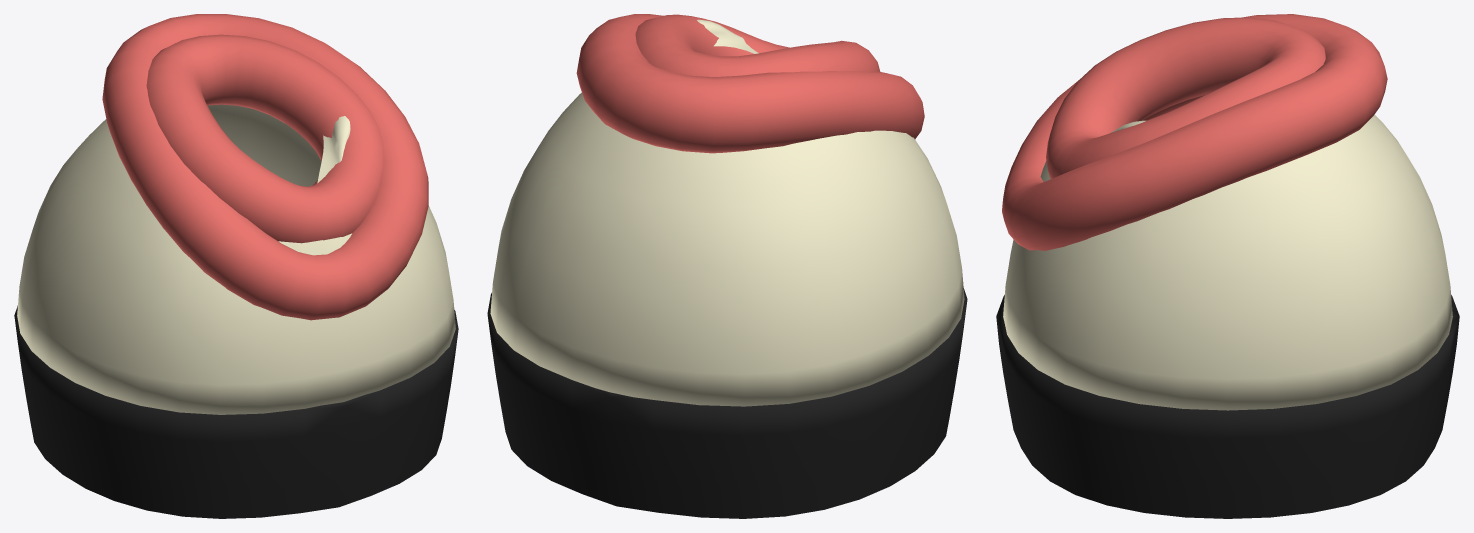
3 views of the same model, side by side, from view 1: azimuth 30°, elevation 25°; view 2: azimuth 150°, elevation 25°; view 3: azimuth 270°, elevation 25° (orthographic). The views are drawn at different scales.
Visible parts, largest first — view 1: cloth_person9; view 2: cloth_person9; view 3: cloth_person9.
Boxes of the visible parts, left/top/right/bottom form: cloth_person9: left=14, top=14, right=458, bottom=518; cloth_person9: left=487, top=14, right=967, bottom=518; cloth_person9: left=996, top=14, right=1459, bottom=518.
Size of the model in its own units: 1.38 by 1.28 by 1.4.
